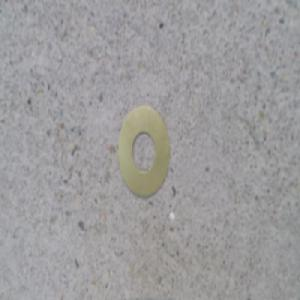Washer: (117, 106, 171, 200)
